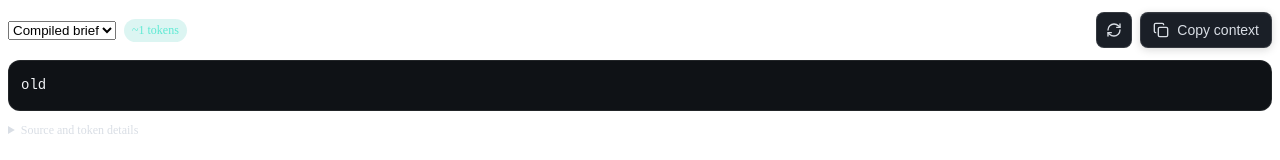
Test: a failed refresh removes old copyable content
The width and height of the screenshot is (1280, 160).
Expected: the text "old" is shown, [8,60,1272,110]
Click the button named "Refresh context" at (1114, 30), box [1096,12,1132,48]
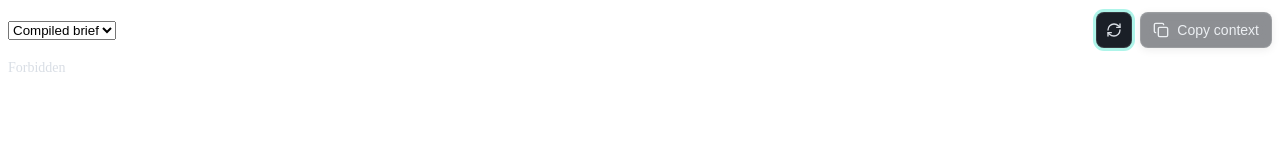
Now the message reads "Forbidden", box [8,60,66,75]
Now the button with aria-label "Copy displayed context" is disabled, box [1140,12,1272,48]
